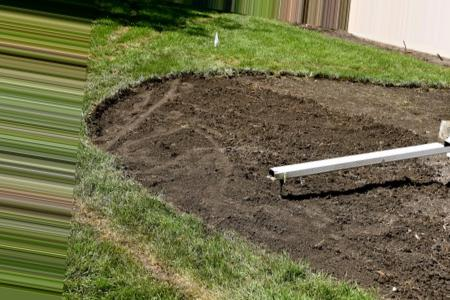patch: (281, 190, 439, 275), (111, 93, 257, 184), (267, 82, 405, 143)
